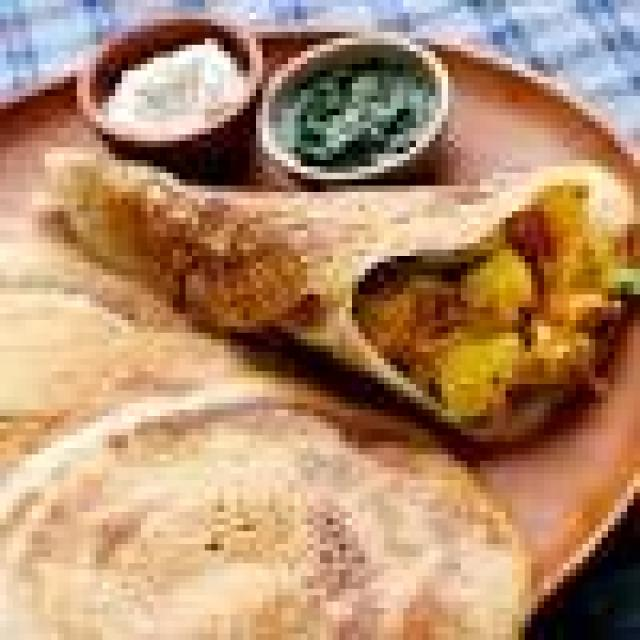dosa: (19, 128, 634, 422), (0, 364, 538, 634)
